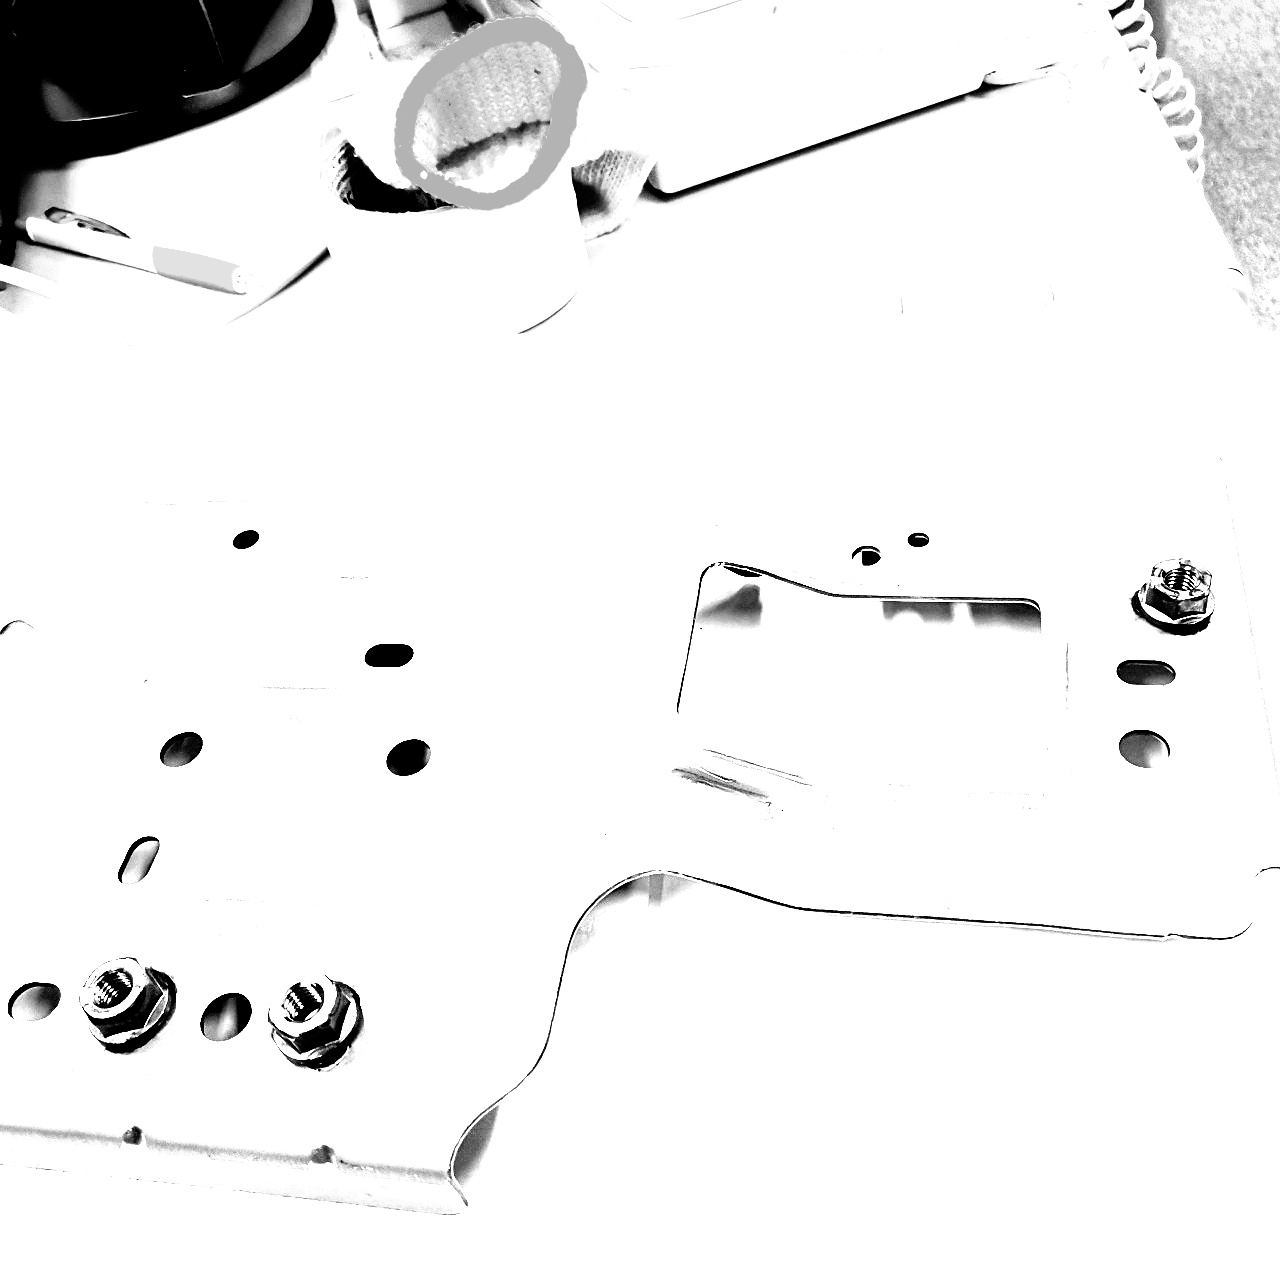dog: (72, 954, 178, 1058), (263, 966, 366, 1074), (1130, 556, 1223, 638)
